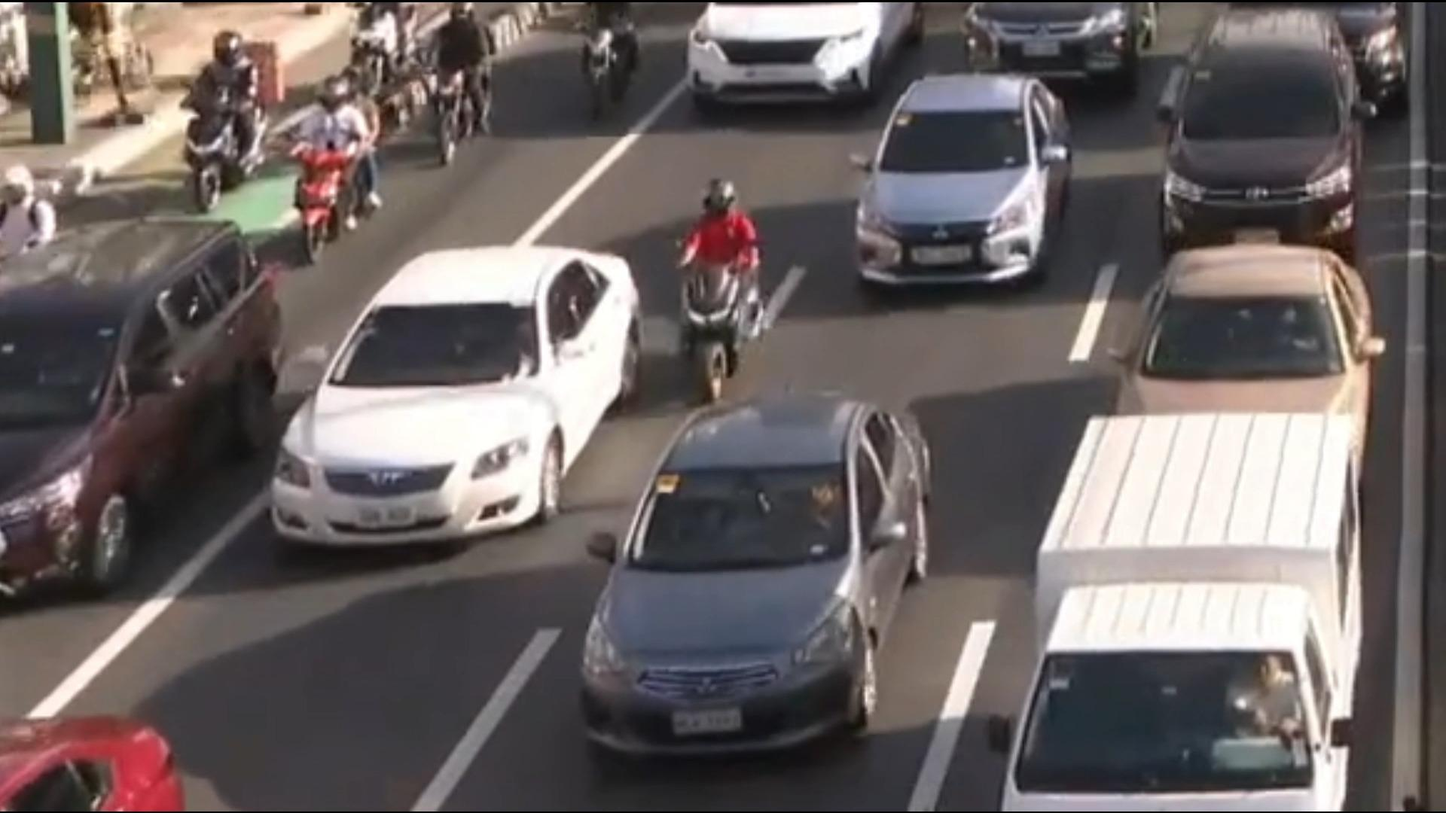Motorcycle: (655, 170, 791, 423), (161, 6, 290, 215), (286, 64, 396, 274), (404, 0, 511, 169), (559, 0, 654, 139), (346, 0, 422, 118)
Multicab: (985, 413, 1423, 813)
SUV: (0, 198, 287, 622), (1134, 0, 1388, 274)
Sedan: (507, 390, 983, 788), (223, 224, 661, 581), (1089, 249, 1394, 485), (833, 66, 1091, 343)
